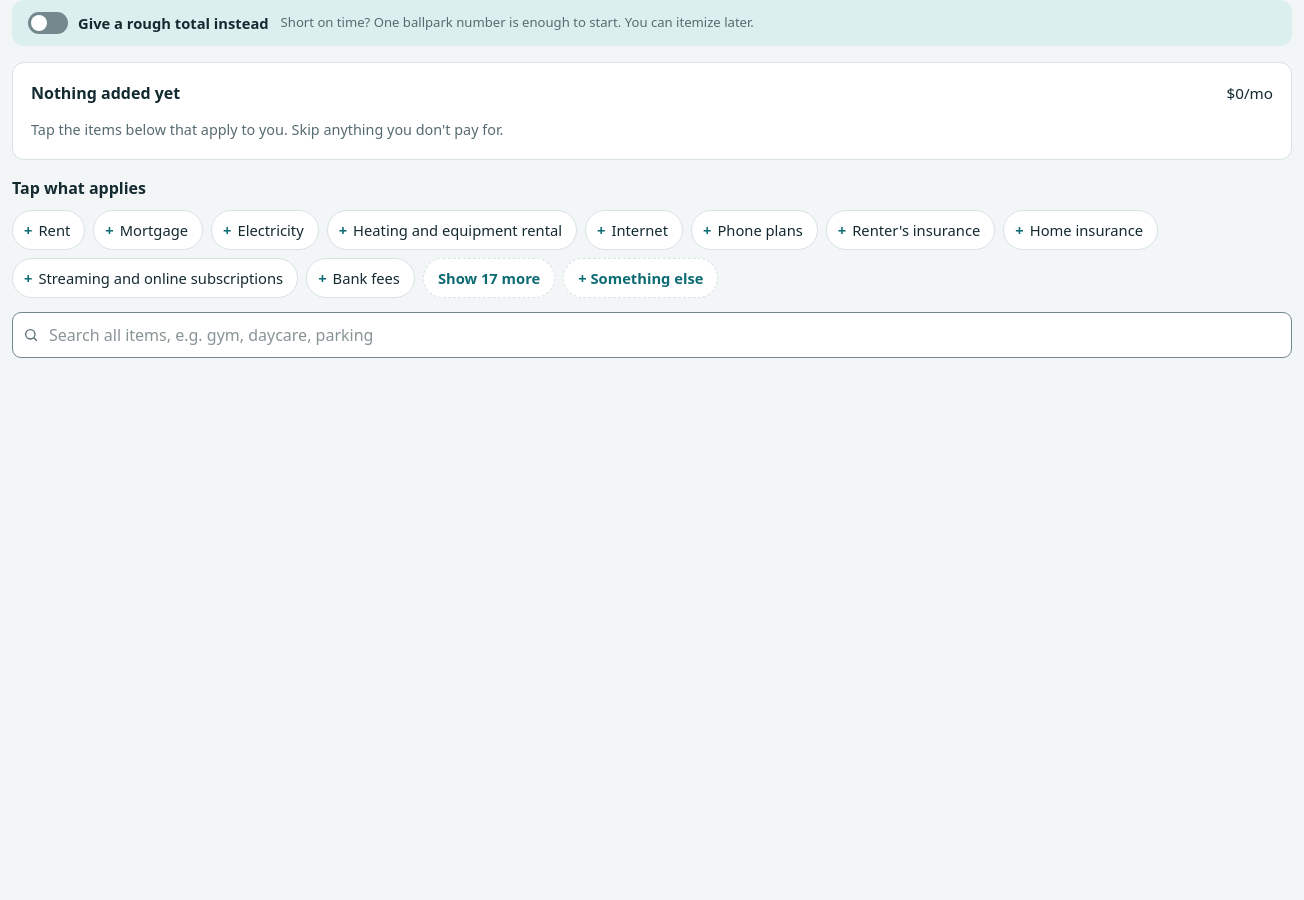
Scenario: ItemSearch › adds a hit from another bucket, stays here and shows a toast
Type "daycare" into the search field. click: (652, 335)
box: [12,312,1292,358]
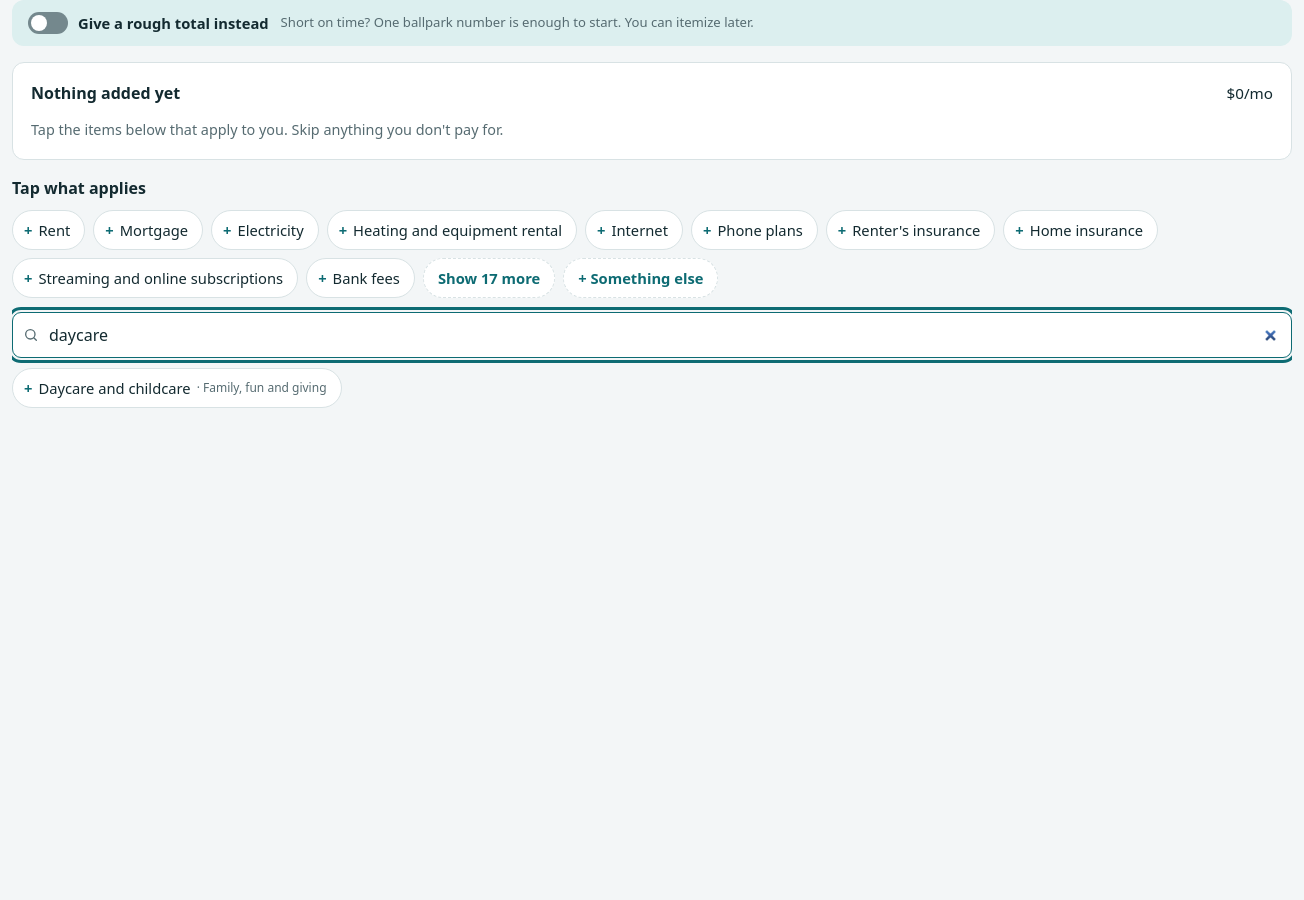
Click the button with aria-label "Add Daycare and childcare". click: (177, 388)
box: [12,368,342,408]
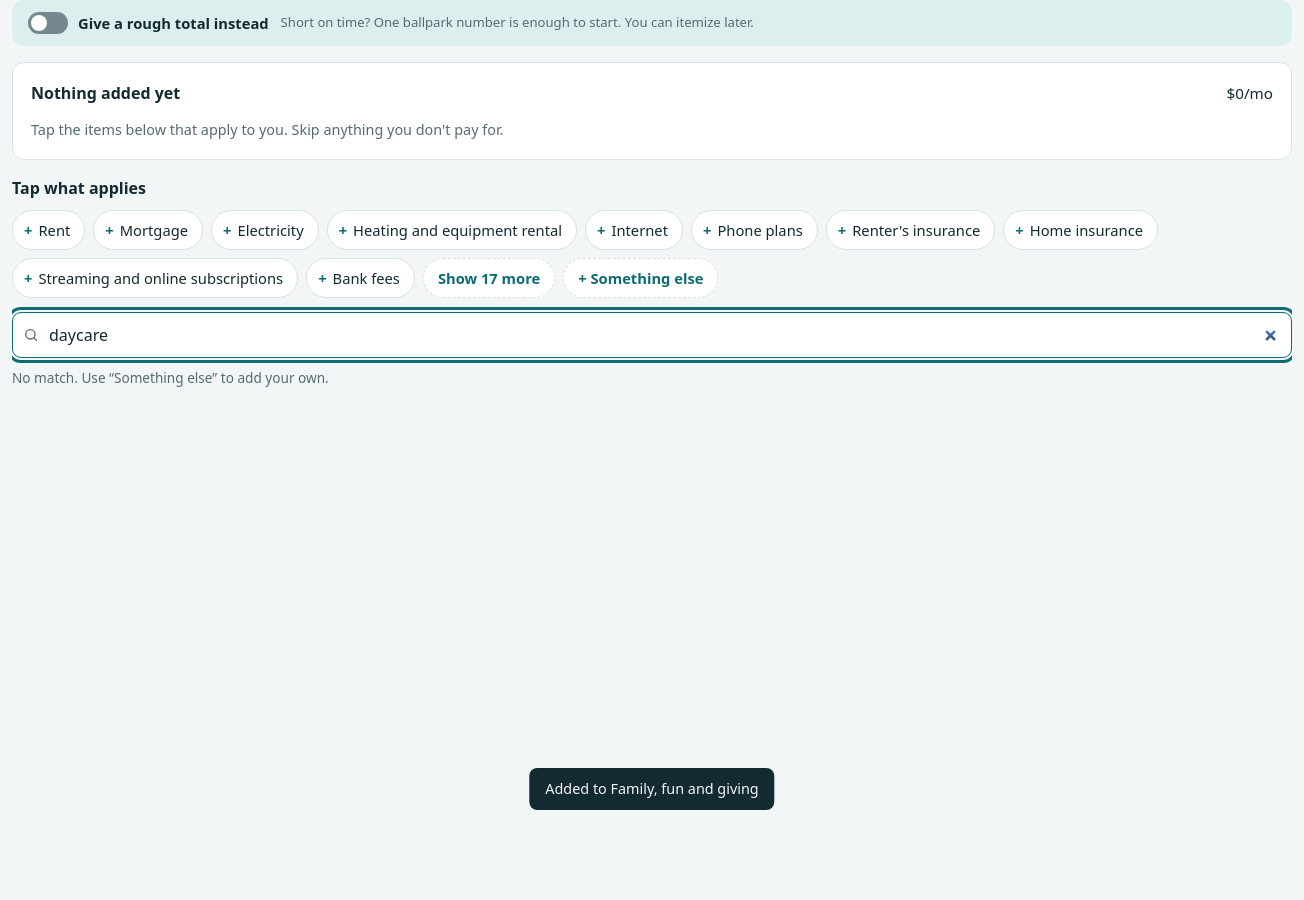
Expected: the button "Daycare and childcare" is gone
